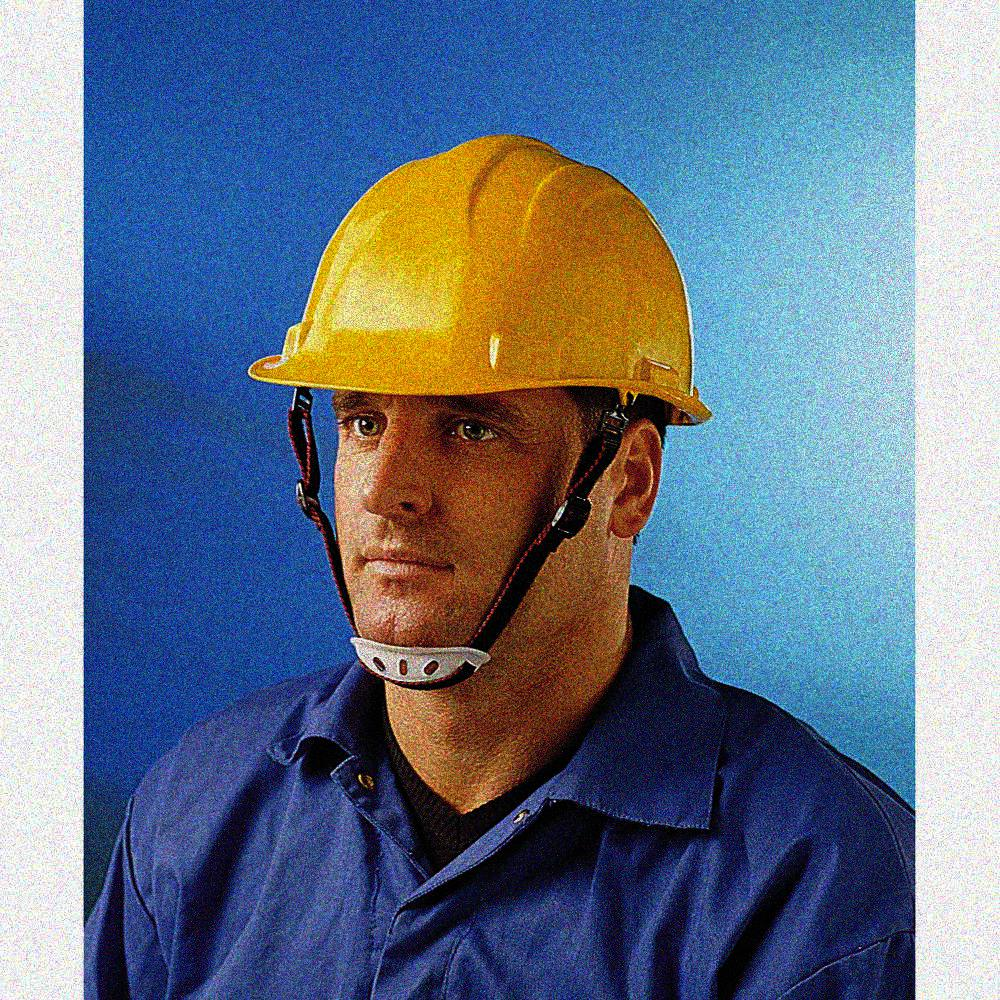helmet: (243, 133, 709, 679)
